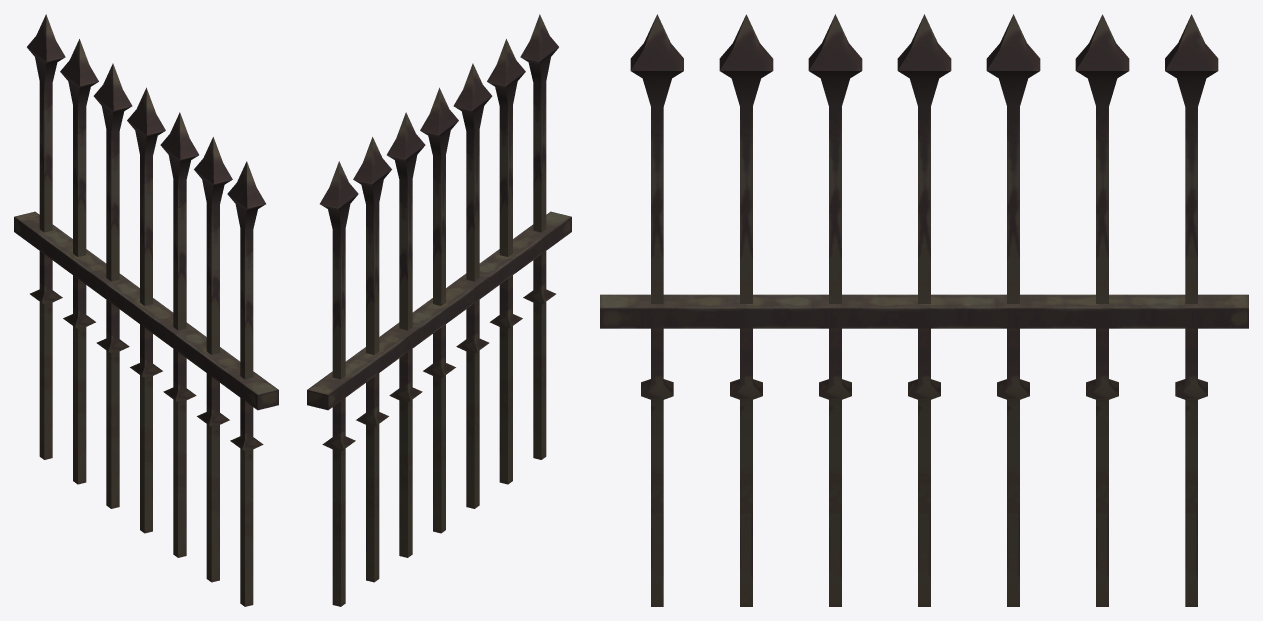
Rendered from SpikeDoor.fbx.
3 views of the same model, side by side, from view 1: azimuth 30°, elevation 25°; view 2: azimuth 150°, elevation 25°; view 3: azimuth 270°, elevation 25° (orthographic). The views are drawn at different scales.
Parts seen in each view (by area): view 1: fenceBar, spikeFenceCentral (3), spikeFenceCentral (5), spikeFenceCentral (1), spikeFenceCentral (6), spikeFenceCentral (4), spikeFenceCentral (2), spikeFenceCentral; view 2: fenceBar, spikeFenceCentral (6), spikeFenceCentral (2), spikeFenceCentral (4), spikeFenceCentral (3), spikeFenceCentral (1), spikeFenceCentral (5), spikeFenceCentral; view 3: fenceBar, spikeFenceCentral, spikeFenceCentral (2), spikeFenceCentral (1), spikeFenceCentral (4), spikeFenceCentral (5), spikeFenceCentral (3), spikeFenceCentral (6).
Boxes of the visible parts, box(x1,y1,x2,y2) form: fenceBar: box(14, 211, 278, 410); spikeFenceCentral (3): box(27, 14, 65, 459); spikeFenceCentral (5): box(194, 137, 232, 582); spikeFenceCentral (1): box(93, 63, 132, 508); spikeFenceCentral (6): box(227, 161, 265, 606); spikeFenceCentral (4): box(160, 112, 198, 557); spikeFenceCentral (2): box(60, 39, 98, 484); spikeFenceCentral: box(127, 87, 165, 533); fenceBar: box(307, 211, 571, 410); spikeFenceCentral (6): box(520, 14, 558, 459); spikeFenceCentral (2): box(353, 137, 391, 582); spikeFenceCentral (4): box(453, 63, 492, 508); spikeFenceCentral (3): box(320, 161, 358, 606); spikeFenceCentral (1): box(387, 112, 425, 557); spikeFenceCentral (5): box(487, 39, 525, 484); spikeFenceCentral: box(420, 87, 458, 533); fenceBar: box(600, 294, 1248, 328); spikeFenceCentral: box(897, 14, 951, 606); spikeFenceCentral (2): box(1075, 14, 1129, 606); spikeFenceCentral (1): box(986, 14, 1040, 606); spikeFenceCentral (4): box(808, 14, 862, 606); spikeFenceCentral (5): box(719, 14, 773, 606); spikeFenceCentral (3): box(1165, 14, 1218, 606); spikeFenceCentral (6): box(630, 14, 683, 606).
Bounding box in the file's own units: 0.3691 × 7.31 × 7.29.
Materials: 1 (1 with a texture image).
